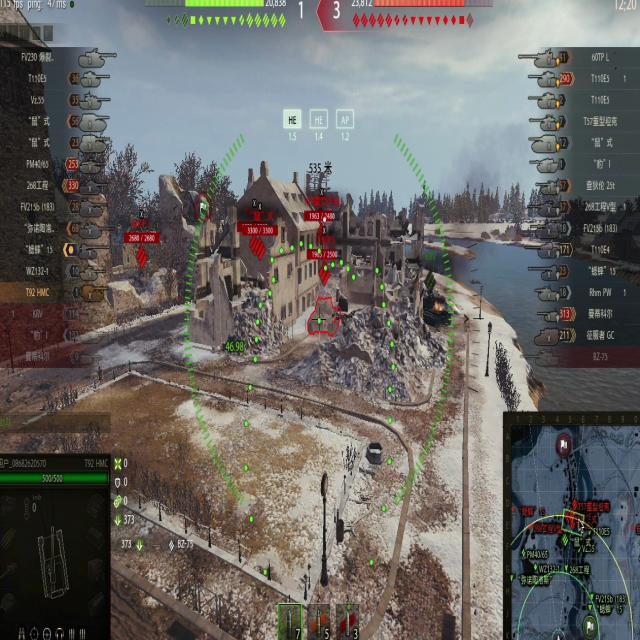tank: (305, 244, 344, 340)
